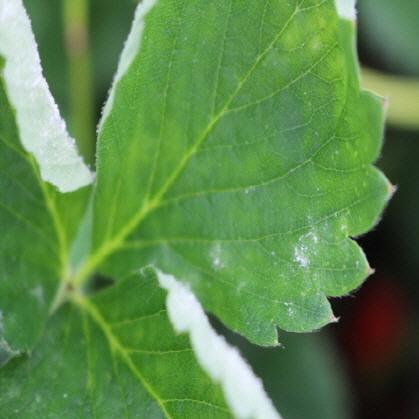Powdery Mildew Leaf: (87, 0, 397, 348), (0, 263, 284, 418), (0, 0, 98, 356)
